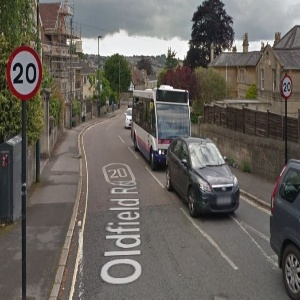20 speed: (7, 46, 43, 100), (281, 76, 293, 99)
